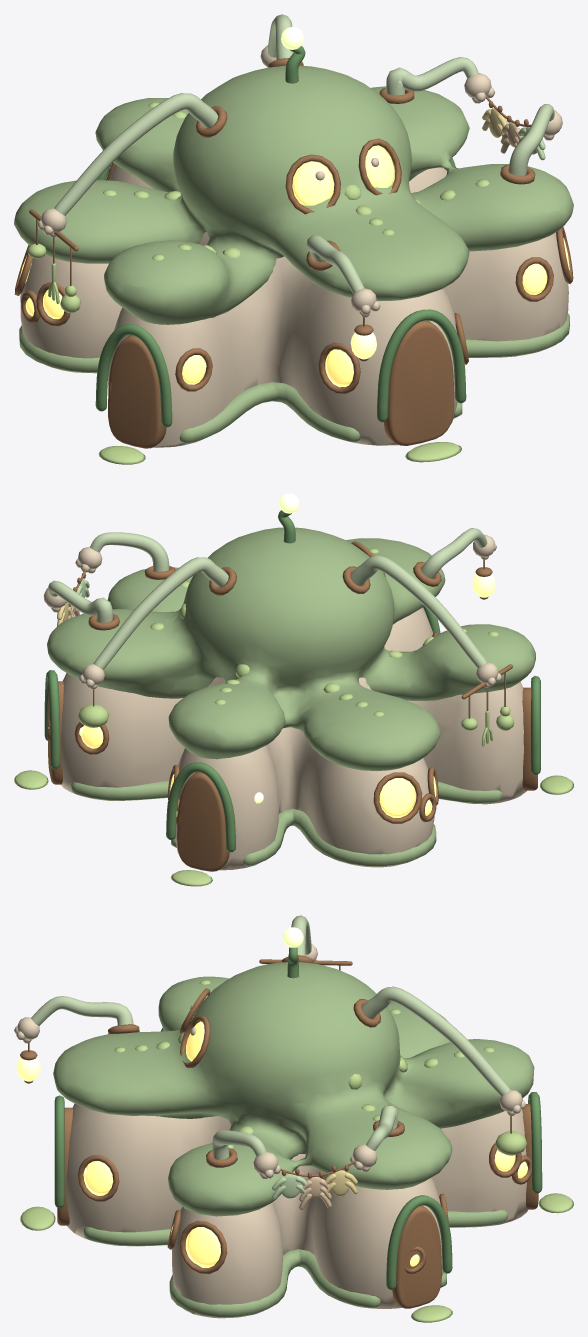
The model's file is house_06_0604.fbx.
3 renders of one model, top to bottom at view 1: azimuth 30°, elevation 25°; view 2: azimuth 150°, elevation 25°; view 3: azimuth 270°, elevation 25°, orthographic. The views are drawn at different scales.
Visible parts, largest first — view 1: Tawan_RoofMantle, Tawan_Body, Tawan_Door_Main, Tawan_WindowRims, Tawan_BaseCushion, Tawan_Windows, Tawan_Door_FrontLeft, Tawan_Arm_ToolsL, Tawan_DoorRim_Main, Tawan_DoorRim_FrontLeft, Tawan_ArmHands, Tawan_Arm_ClothesB (+8 smaller); view 2: Tawan_RoofMantle, Tawan_Body, Tawan_BaseCushion, Tawan_Door_Back, Tawan_Arm_ToolsL, Tawan_Arm_ToolsBack, Tawan_WindowRims, Tawan_ArmHands, Tawan_DoorRim_Back, Tawan_Windows, Tawan_Arm_ClothesA, Tawan_Tools (+10 smaller); view 3: Tawan_RoofMantle, Tawan_Body, Tawan_BaseCushion, Tawan_WindowRims, Tawan_Door_BackRight, Tawan_Windows, Tawan_Arm_ToolsBack, Tawan_ArmHands, Tawan_DoorRim_BackRight, Tawan_Arm_Lantern, Tawan_DoorRim_Main, Tawan_RoofDots (+12 smaller).
Boxes of the visible parts, x1,y1,x2,y2 form: Tawan_RoofMantle: (14, 65, 573, 324); Tawan_Body: (20, 164, 568, 447); Tawan_Door_Main: (384, 320, 454, 445); Tawan_WindowRims: (14, 138, 573, 393); Tawan_BaseCushion: (19, 313, 569, 443); Tawan_Windows: (20, 145, 569, 387); Tawan_Door_FrontLeft: (108, 335, 166, 448); Tawan_Arm_ToolsL: (54, 93, 218, 215); Tawan_DoorRim_Main: (377, 309, 466, 422); Tawan_DoorRim_FrontLeft: (95, 324, 172, 427); Tawan_ArmHands: (37, 45, 562, 317); Tawan_Arm_ClothesB: (386, 57, 478, 95); Tawan_RoofMantle: (47, 527, 535, 770); Tawan_Body: (61, 607, 526, 870); Tawan_BaseCushion: (71, 780, 502, 866); Tawan_Door_Back: (177, 772, 229, 871); Tawan_Arm_ToolsL: (350, 555, 487, 668); Tawan_Arm_ToolsBack: (93, 557, 228, 669); Tawan_WindowRims: (47, 541, 438, 824); Tawan_ArmHands: (43, 534, 501, 689); Tawan_DoorRim_Back: (166, 762, 235, 852); Tawan_Windows: (48, 725, 436, 817); Tawan_Arm_ClothesA: (90, 532, 169, 571); Tawan_Tools: (78, 704, 514, 746); Tawan_RoofMantle: (53, 962, 534, 1216); Tawan_Body: (66, 1103, 527, 1318); Tawan_BaseCushion: (83, 1210, 507, 1317); Tawan_WindowRims: (77, 988, 531, 1274); Tawan_Door_BackRight: (392, 1205, 441, 1308); Tawan_Windows: (83, 995, 527, 1267); Tawan_Arm_ToolsBack: (362, 986, 510, 1096); Tawan_ArmHands: (14, 943, 525, 1178); Tawan_DoorRim_BackRight: (386, 1195, 452, 1290); Tawan_Arm_Lantern: (31, 996, 133, 1025); Tawan_DoorRim_Main: (54, 1095, 64, 1208); Tawan_RoofDots: (114, 980, 494, 1148).
Bounding box in the file's own units: 6.61 × 3.98 × 6.95.
